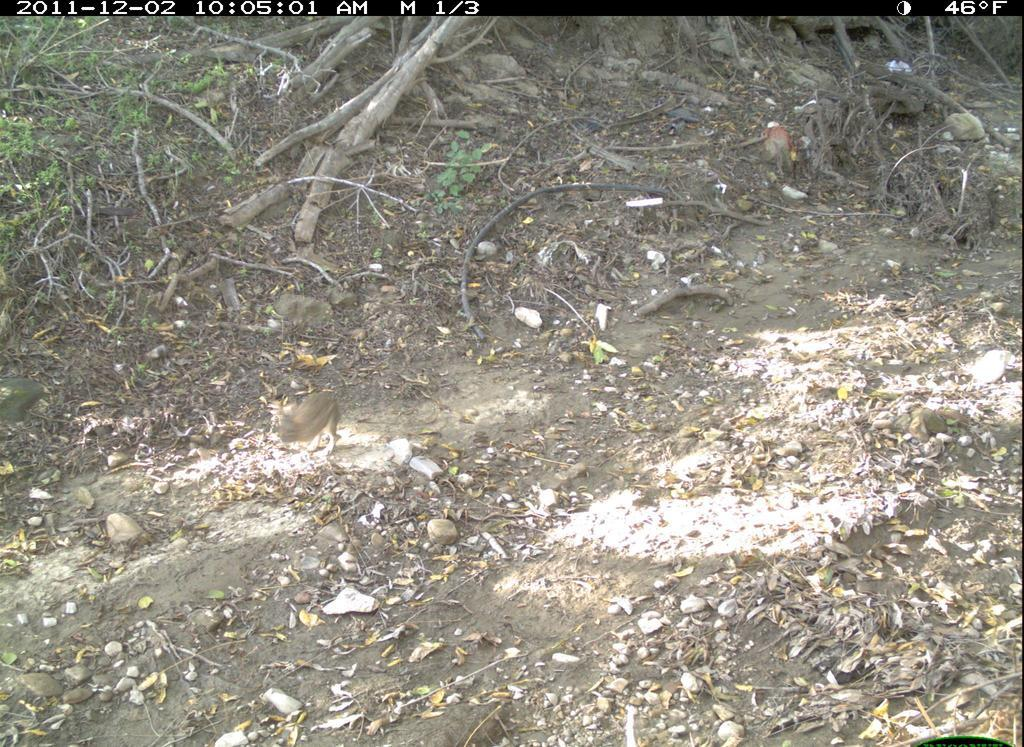rabbit: (249, 385, 359, 458)
